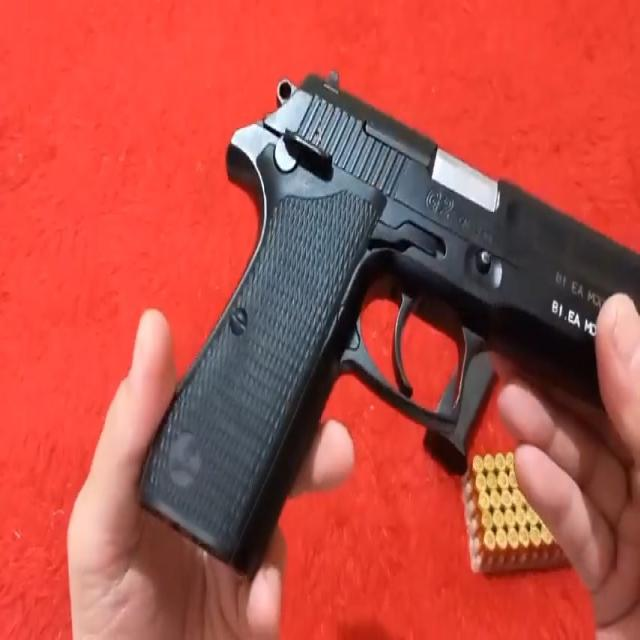handgun: (115, 65, 640, 572)
